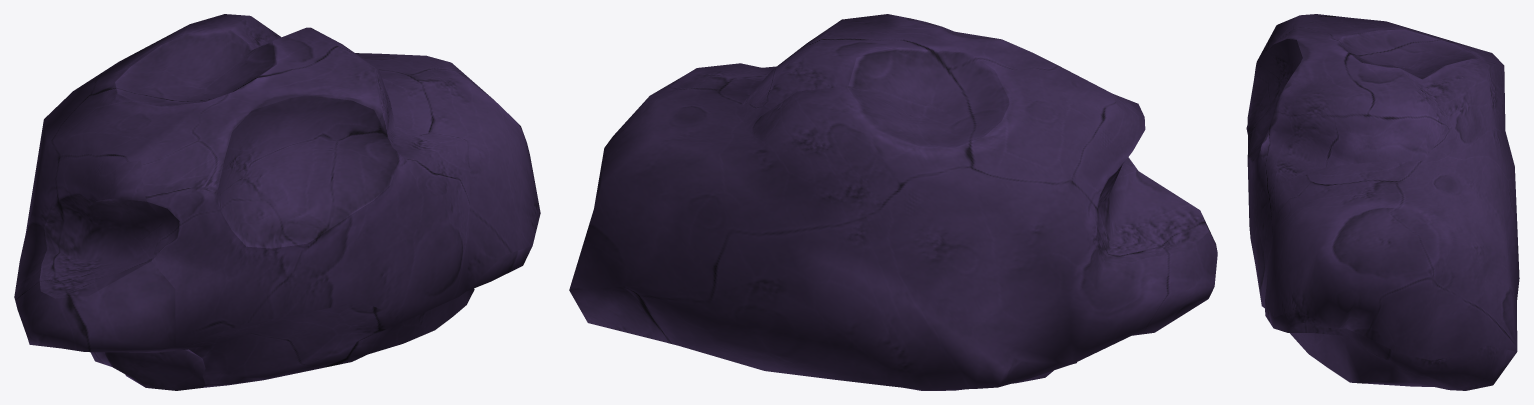
Rendered from Rock_Boulder_01.FBX.
The picture shows the model from 3 angles, left to right: view 1: azimuth 30°, elevation 25°; view 2: azimuth 150°, elevation 25°; view 3: azimuth 270°, elevation 25°; orthographic projection. The views are drawn at different scales.
Parts seen in each view (by area): view 1: Rock_Boulder_01; view 2: Rock_Boulder_01; view 3: Rock_Boulder_01.
Part boxes in pixels (x1,y1,x2,y2): Rock_Boulder_01: (14, 14, 540, 390); Rock_Boulder_01: (569, 14, 1217, 390); Rock_Boulder_01: (1246, 14, 1519, 390).
Size of the model in its own units: 1.57 by 0.8515 by 0.8413.
1 material, 1 textured.
